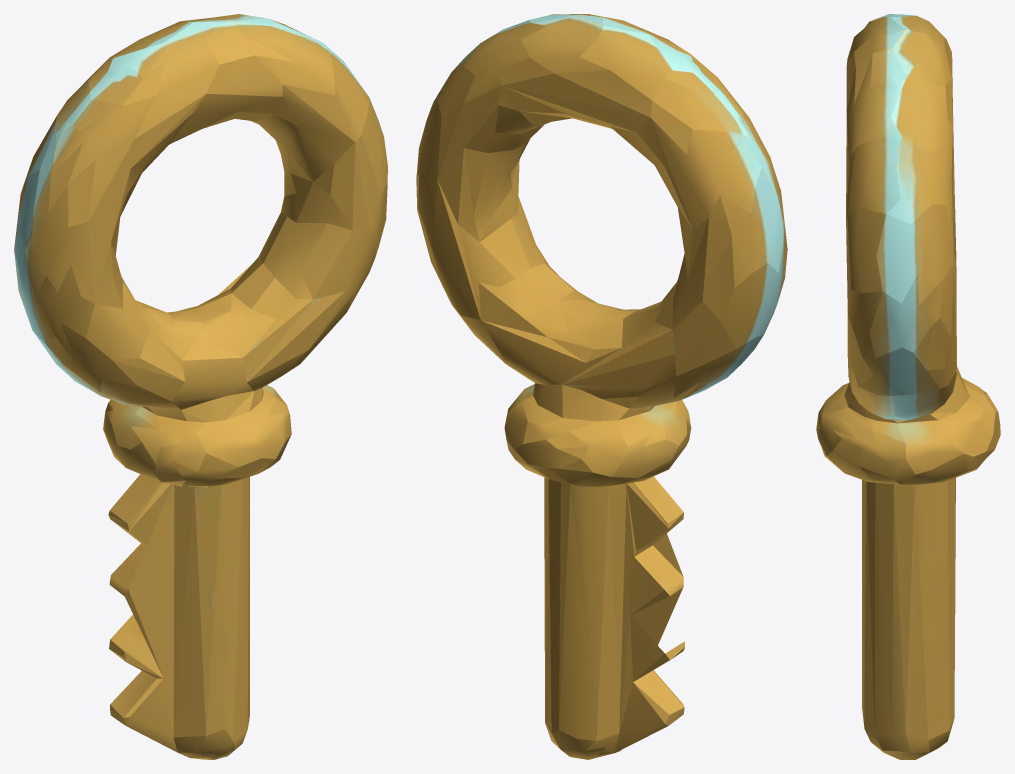
Rendered from key.glb.
The picture shows the model from 3 angles, left to right: view 1: azimuth 30°, elevation 25°; view 2: azimuth 150°, elevation 25°; view 3: azimuth 270°, elevation 25°; orthographic projection. The views are drawn at different scales.
Bounding box in the file's own units: 0.9709 × 1.9 × 0.4418.
Materials: 1 (1 with a texture image).
